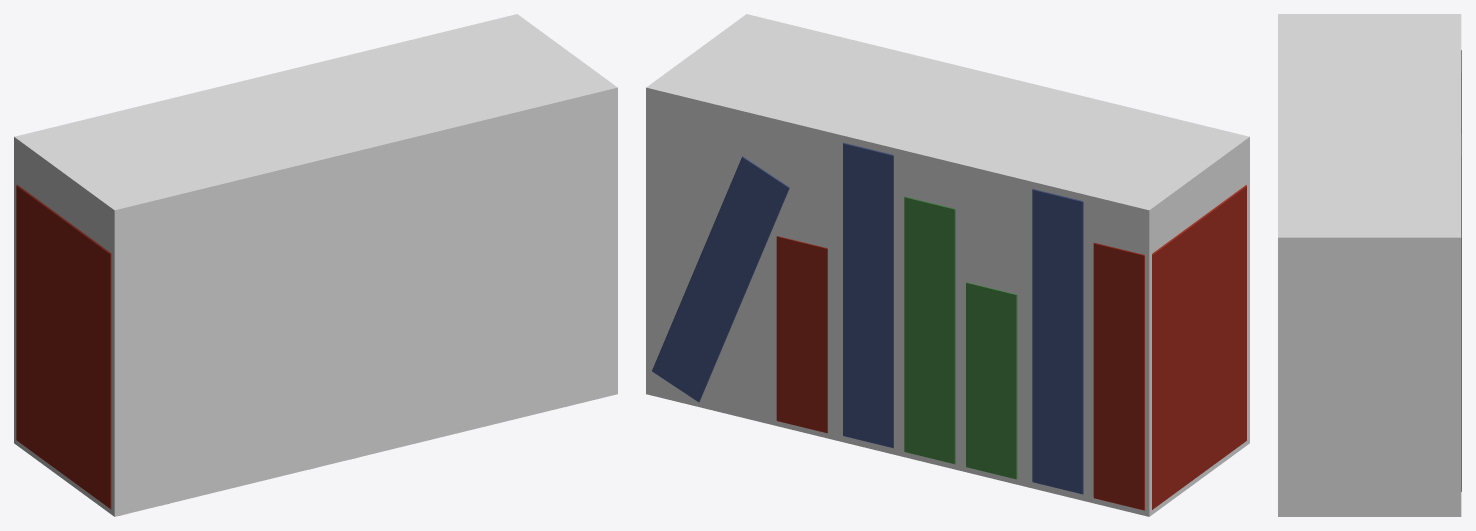
Rendered from books-a.glb.
3 views of the same model, side by side, from view 1: azimuth 30°, elevation 25°; view 2: azimuth 150°, elevation 25°; view 3: azimuth 270°, elevation 25° (orthographic). The views are drawn at different scales.
Visible parts, largest first — view 1: Books A_col, Books A; view 2: Books A_col, Books A; view 3: Books A_col, Books A.
Boxes of the visible parts, x1=… form: Books A_col: x1=14, y1=14, x2=617, y2=516; Books A: x1=16, y1=184, x2=111, y2=509; Books A_col: x1=646, y1=14, x2=1249, y2=516; Books A: x1=652, y1=142, x2=1246, y2=510; Books A_col: x1=1278, y1=14, x2=1461, y2=516; Books A: x1=1461, y1=50, x2=1461, y2=491.
Bounding box in the file's own units: 2.55 × 1.49 × 0.8844.
